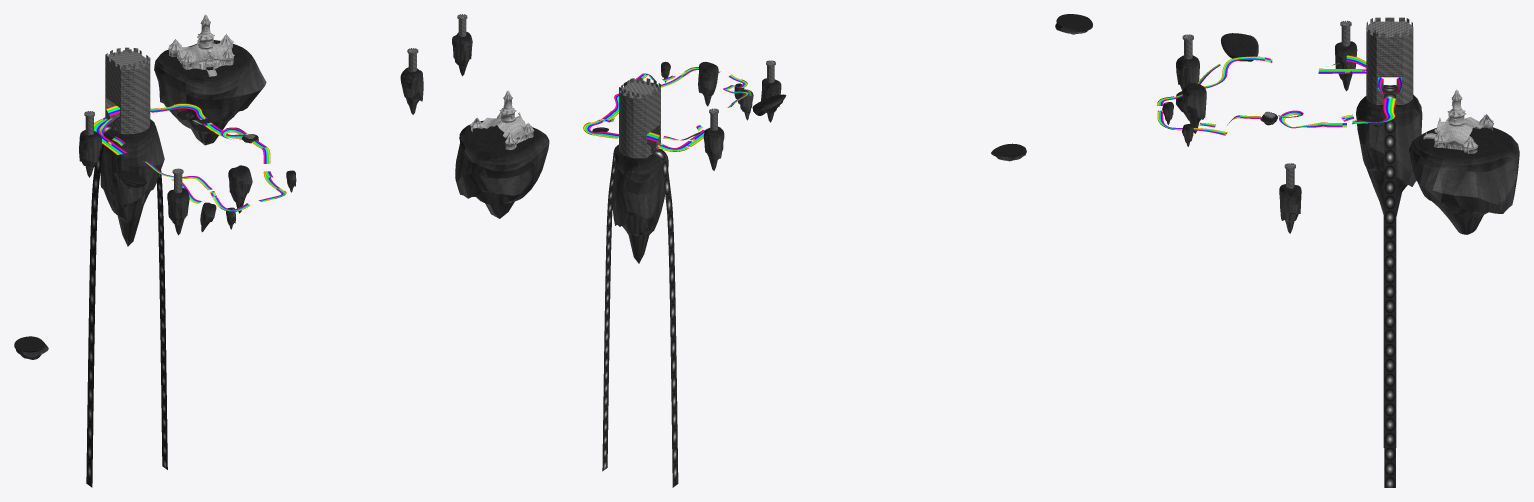
3 renders of one model, left to right at view 1: azimuth 30°, elevation 25°; view 2: azimuth 150°, elevation 25°; view 3: azimuth 270°, elevation 25°, orthographic. The views are drawn at different scales.
Visible parts, largest first — view 1: rockMesh, wallMesh, riverMesh, grassMesh.001, W9_yukaMesh, roofMesh.001, brickwallMesh; view 2: rockMesh, riverMesh, wallMesh, grassMesh.001, W9_yukaMesh, roofMesh.001; view 3: rockMesh, riverMesh, wallMesh, grassMesh.001, W9_yukaMesh, roofMesh.001, brickwallMesh.
Part boxes in pixels (x1,y1,x2,y2): rockMesh: [14, 44, 423, 359]; wallMesh: [84, 47, 418, 209]; riverMesh: [86, 116, 167, 487]; grassMesh.001: [14, 40, 420, 351]; W9_yukaMesh: [94, 103, 286, 211]; roofMesh.001: [168, 15, 234, 62]; brickwallMesh: [168, 24, 233, 76]; rockMesh: [452, 35, 1026, 263]; riverMesh: [602, 142, 678, 487]; wallMesh: [457, 14, 775, 158]; grassMesh.001: [453, 32, 1025, 167]; W9_yukaMesh: [583, 67, 751, 151]; roofMesh.001: [470, 91, 534, 143]; rockMesh: [1055, 21, 1519, 234]; riverMesh: [1382, 85, 1398, 487]; wallMesh: [1165, 17, 1413, 188]; grassMesh.001: [1056, 14, 1510, 194]; W9_yukaMesh: [1157, 56, 1396, 135]; roofMesh.001: [1434, 90, 1493, 148]; brickwallMesh: [1424, 100, 1493, 153].
Bounding box in the file's own units: 293290 × 231218 × 219566.
23 materials, 23 textured.
